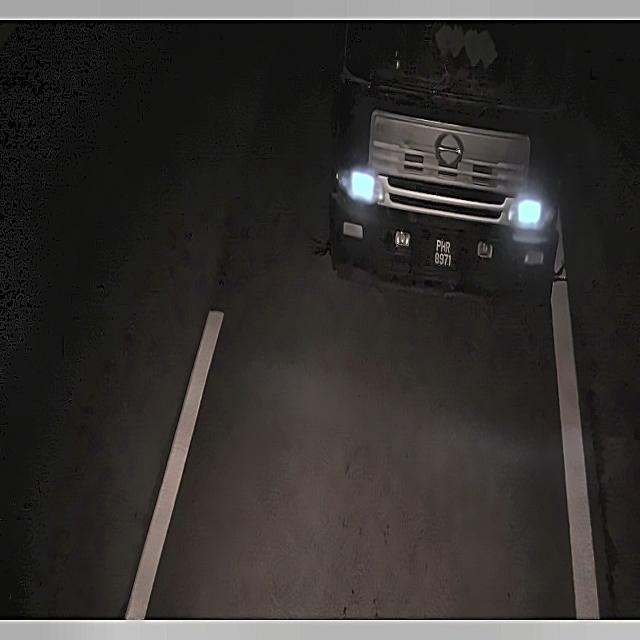car: (420, 226, 469, 278)
